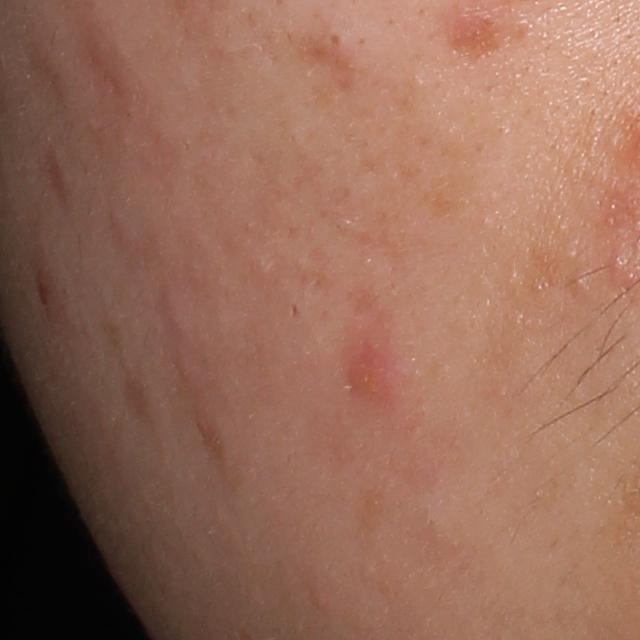comedo: (328, 28, 353, 52), (569, 272, 589, 291)
papule: (349, 348, 389, 394)
